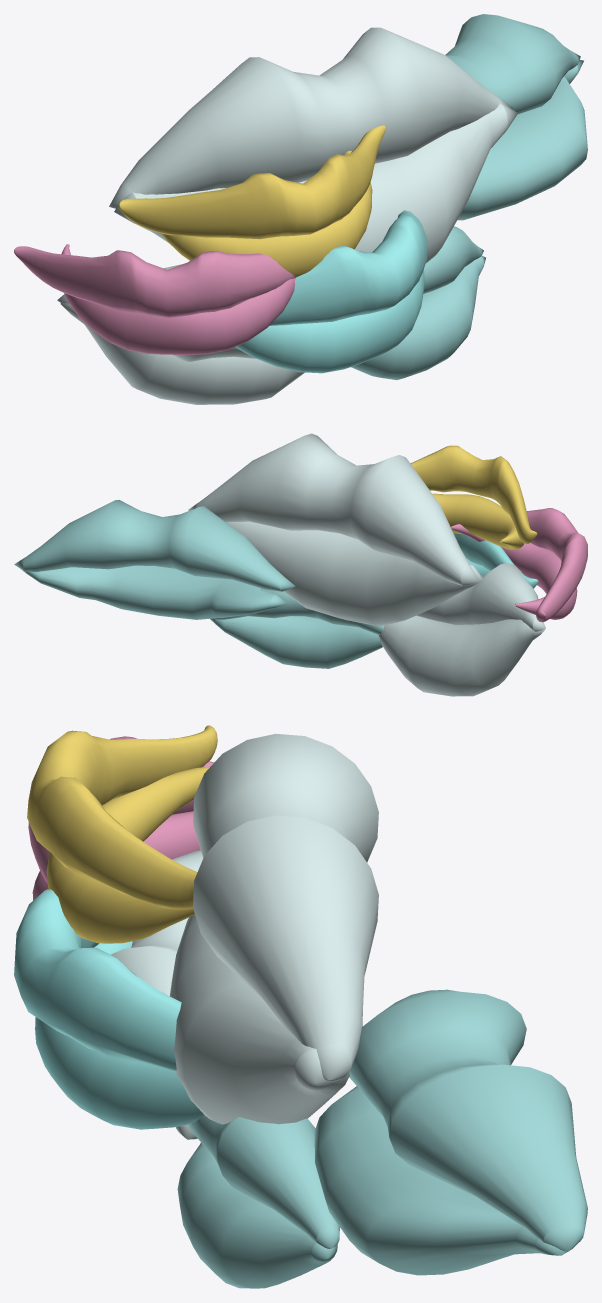
The model's file is lipClouds.fbx.
The picture shows the model from 3 angles, top to bottom: view 1: azimuth 30°, elevation 25°; view 2: azimuth 150°, elevation 25°; view 3: azimuth 270°, elevation 25°; orthographic projection. The views are drawn at different scales.
Visible parts, largest first — view 1: pCylinder5, polySurface75, polySurface77, pCylinder6, polySurface79, pCylinder8, polySurface78, pCylinder7, polySurface80, pCylinder9, pCylinder4, polySurface76 (+2 smaller); view 2: pCylinder5, pCylinder7, pCylinder6, pCylinder9, pCylinder8, pCylinder4, polySurface75, pCylinder10, polySurface77, polySurface76, polySurface78, pCylinder3 (+1 smaller); view 3: pCylinder5, pCylinder7, pCylinder8, pCylinder6, polySurface75, polySurface79, pCylinder4, pCylinder3, polySurface76, polySurface80, pCylinder10, polySurface78 (+1 smaller).
Part boxes in pixels (x1,y1,x2,y2): pCylinder5: [109, 27, 512, 208]; polySurface75: [119, 125, 385, 239]; polySurface77: [14, 246, 296, 317]; pCylinder6: [114, 102, 518, 263]; polySurface79: [269, 210, 427, 325]; pCylinder8: [457, 60, 587, 220]; polySurface78: [61, 244, 294, 354]; pCylinder7: [445, 14, 580, 114]; polySurface80: [235, 270, 424, 373]; pCylinder9: [60, 302, 304, 404]; pCylinder4: [351, 256, 485, 380]; polySurface76: [145, 150, 372, 277]; pCylinder5: [188, 433, 479, 586]; pCylinder7: [14, 500, 295, 591]; pCylinder6: [226, 521, 483, 626]; pCylinder9: [378, 615, 545, 696]; pCylinder8: [21, 565, 287, 619]; pCylinder4: [210, 616, 382, 668]; polySurface75: [410, 445, 537, 544]; pCylinder10: [416, 563, 545, 631]; polySurface77: [526, 508, 587, 622]; polySurface76: [432, 493, 523, 549]; polySurface78: [451, 524, 577, 619]; pCylinder3: [214, 588, 384, 634]; pCylinder5: [193, 733, 378, 1081]; pCylinder7: [349, 989, 587, 1251]; pCylinder8: [314, 1086, 576, 1275]; pCylinder6: [169, 915, 349, 1124]; polySurface75: [27, 725, 217, 909]; polySurface79: [14, 889, 181, 1071]; pCylinder4: [177, 1143, 337, 1288]; pCylinder3: [188, 1115, 339, 1248]; polySurface76: [46, 766, 210, 943]; polySurface80: [35, 941, 204, 1129]; pCylinder10: [110, 850, 203, 996]; polySurface78: [32, 811, 200, 900].
Bounding box in the file's own units: 0.8774 × 0.4226 × 0.4855.
